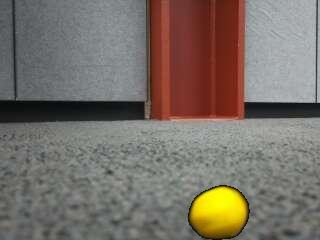lemon: (190, 188, 249, 240)
